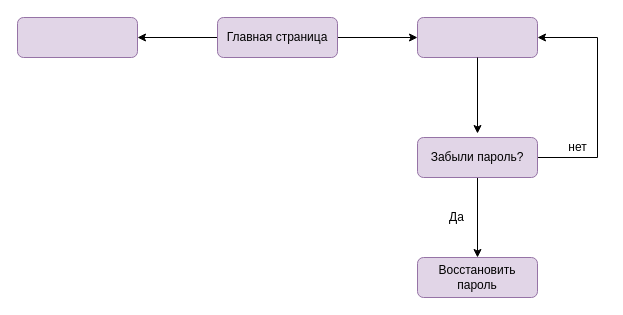
Image size: 623x315. Some labels were removed from this diagram. Each missing label, with the centre of its shape:
Войти: pixel 477 37
Зарегистрироваться: pixel 77 37
